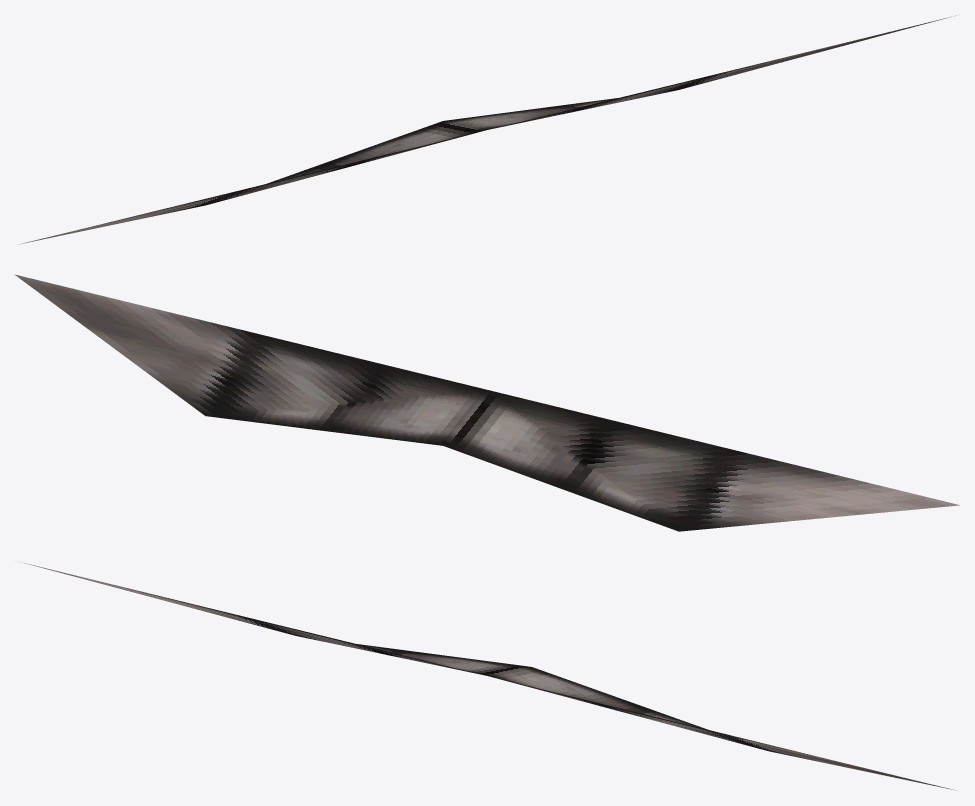
File: Randstein_Flach_1631.glb
3 renders of one model, top to bottom at view 1: azimuth 30°, elevation 25°; view 2: azimuth 150°, elevation 25°; view 3: azimuth 330°, elevation 25°, orthographic.
Parts seen in each view (by area): view 1: pPlaneShape172; view 2: pPlaneShape172; view 3: pPlaneShape172.
Part boxes in pixels (x1=…): pPlaneShape172: x1=18, y1=15, x2=955, y2=244; pPlaneShape172: x1=14, y1=274, x2=959, y2=531; pPlaneShape172: x1=19, y1=561, x2=956, y2=790.
Size of the model in its own units: 1 by 0.0514 by 0.0829.
Materials: 1 (1 with a texture image).
